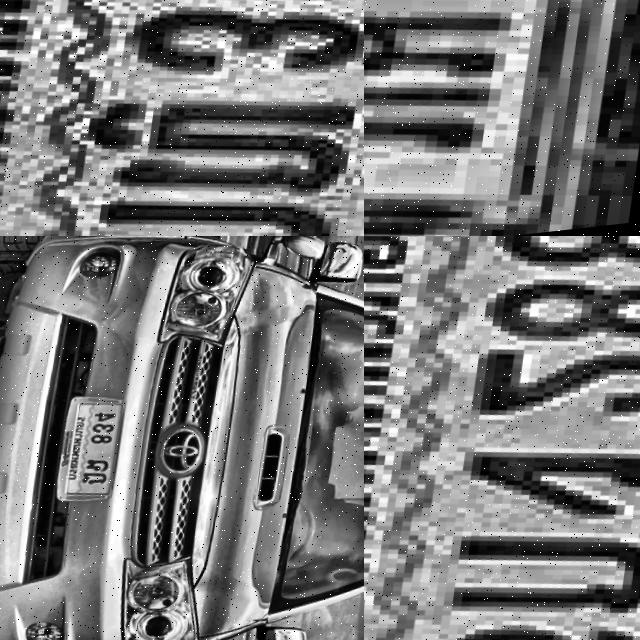license-plate: (364, 236, 640, 640), (0, 0, 364, 236), (364, 0, 640, 236), (44, 387, 134, 517)
